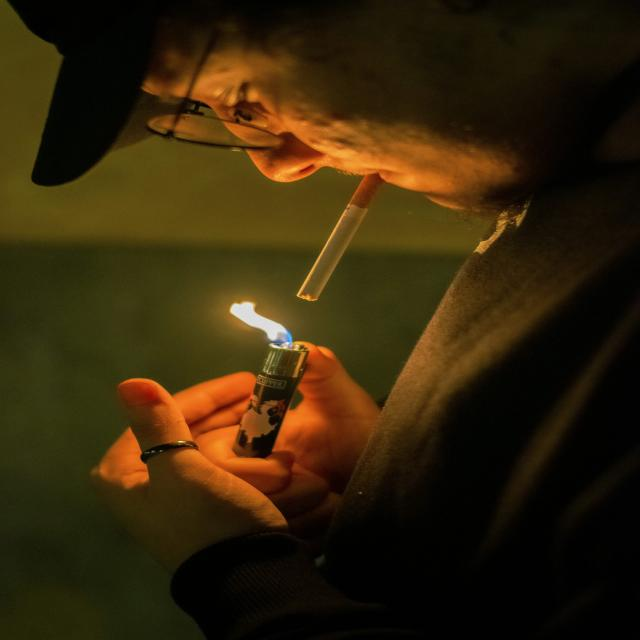fire: (230, 302, 293, 349)
